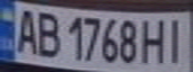1: (60, 12, 84, 61)
6: (100, 15, 121, 64)
7: (78, 14, 103, 62)
8: (118, 16, 142, 65)
A: (9, 6, 42, 55)
B: (33, 8, 63, 59)
H: (139, 16, 172, 65)
I: (163, 15, 190, 65)
